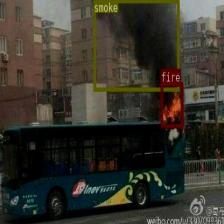fire: (160, 82, 183, 127)
smoke: (93, 0, 179, 91)
